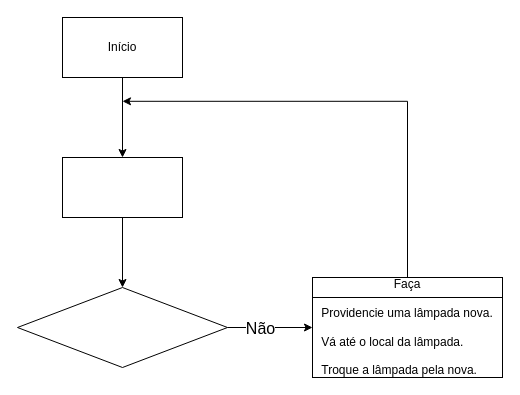
The diagram is 520 pixels wide and 395 high, and some of its shapes have lost their labels. The shapes that lost their labels are listed below. From the top down, each one's centre as x and y in pixels, then its label:
the point at 122,187: Acionar o Interruptor
the point at 122,327: A lâmpada funciona?
